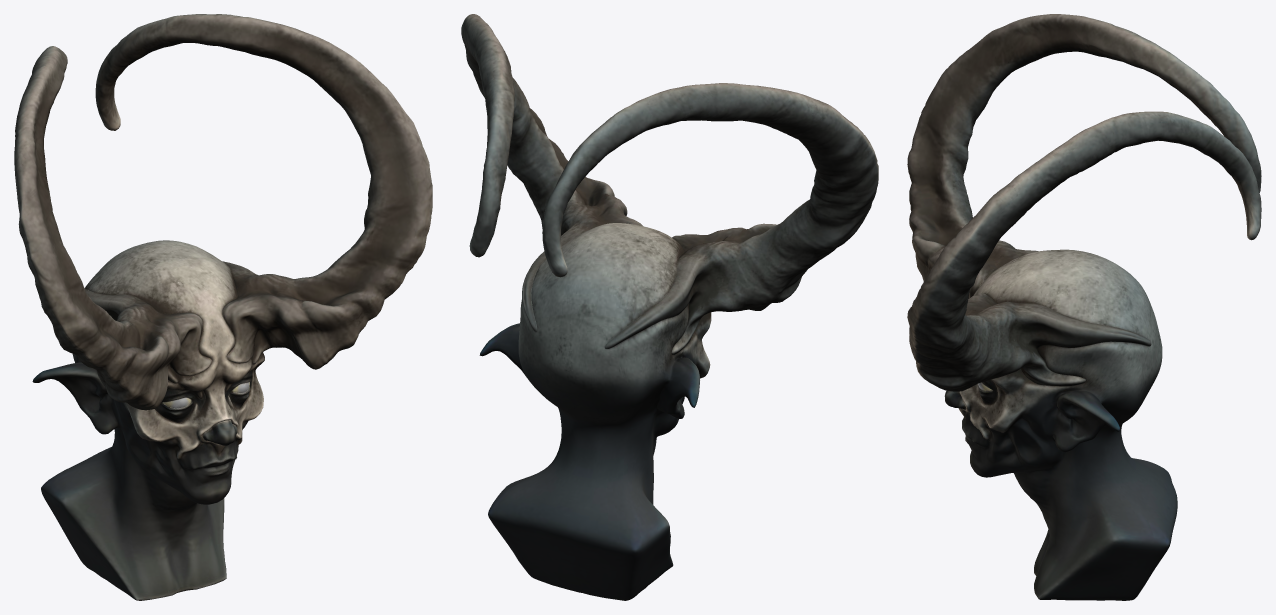
Rendered from dodemon.obj.
3 renders of one model, left to right at view 1: azimuth 30°, elevation 25°; view 2: azimuth 150°, elevation 25°; view 3: azimuth 270°, elevation 25°, orthographic. The views are drawn at different scales.
Parts seen in each view (by area): view 1: fqce; view 2: fqce; view 3: fqce.
Boxes of the visible parts, x1,y1,x2,y2 form: fqce: [14, 14, 432, 600]; fqce: [461, 14, 878, 600]; fqce: [907, 14, 1261, 600].
Bounding box in the file's own units: 3.86 × 4.86 × 3.07.
